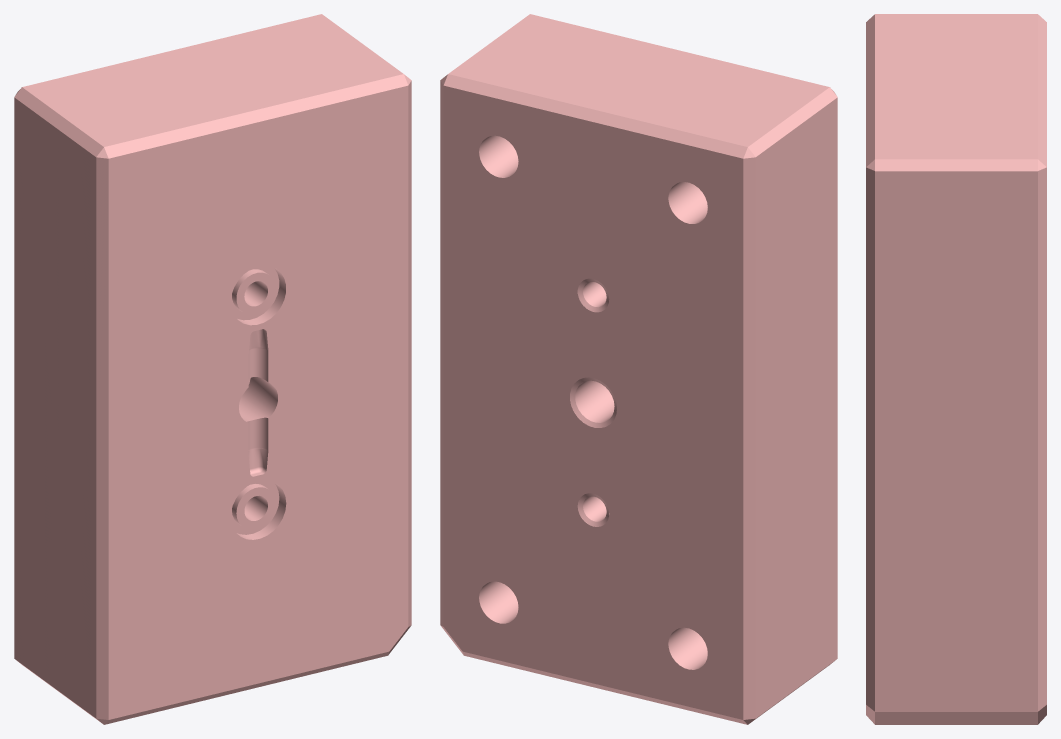
Rendered from core.glb.
3 renders of one model, left to right at view 1: azimuth 30°, elevation 25°; view 2: azimuth 150°, elevation 25°; view 3: azimuth 270°, elevation 25°, orthographic.
Parts seen in each view (by area): view 1: UM_CORE_BLOCK; view 2: UM_CORE_BLOCK; view 3: UM_CORE_BLOCK.
Part boxes in pixels (x1,y1,x2,y2): UM_CORE_BLOCK: (14, 14, 411, 724); UM_CORE_BLOCK: (440, 14, 837, 724); UM_CORE_BLOCK: (866, 14, 1046, 724).
Bounding box in the file's own units: 0.04 × 0.07 × 0.02.
